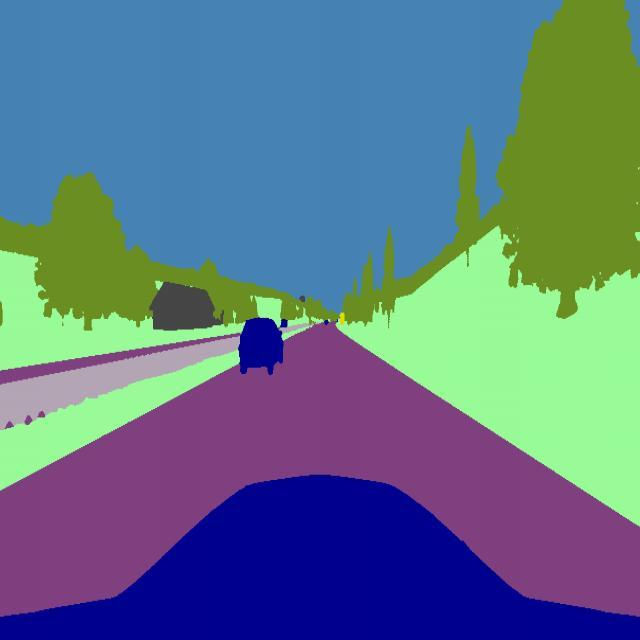safe: (238, 314, 286, 376)
